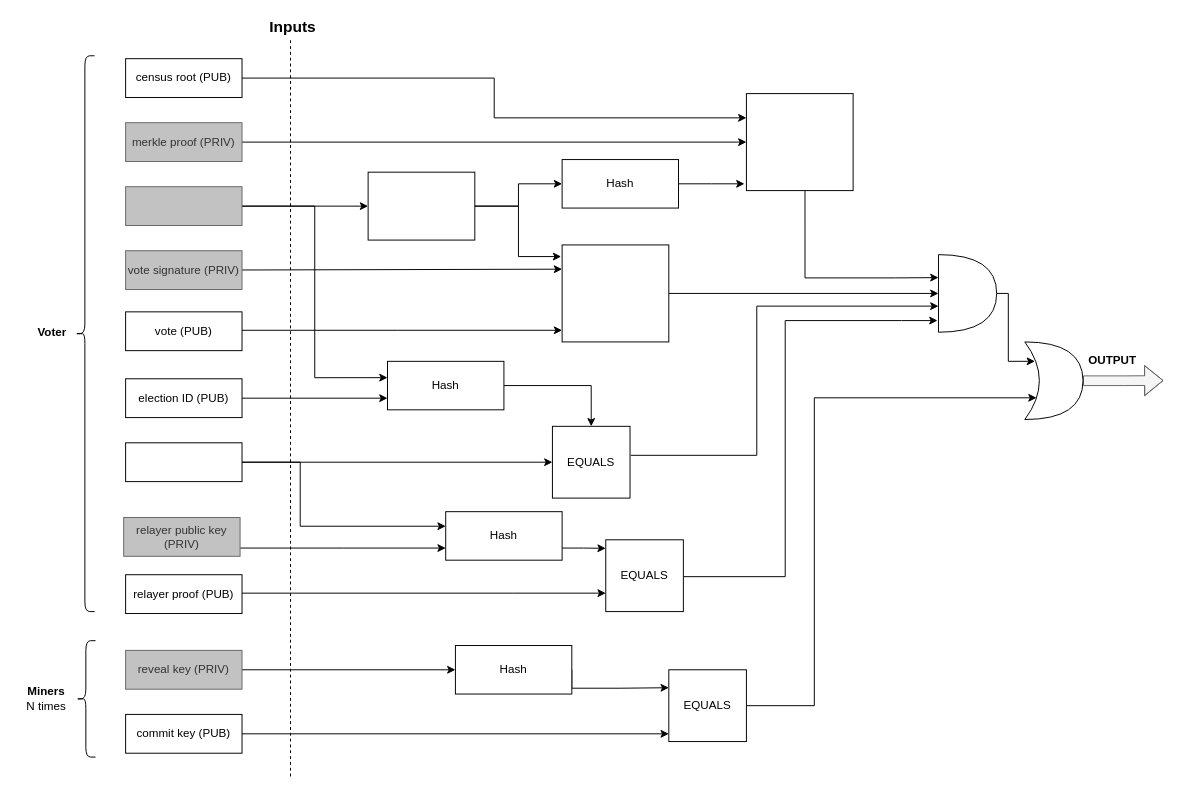
This 1180x794 diagram has some shape labels left out. Each missing label, with the centre of its shape:
"AND" belongs at [967,293].
"Merkle Proof Verifier" belongs at [799,142].
"nullifier (PUB)" belongs at [183,462].
"OR" belongs at [1053,380].
"Priv->Pub" belongs at [421,205].
"private key (PRIV)" belongs at [183,206].
"Signature Verifier" belongs at [615,293].
